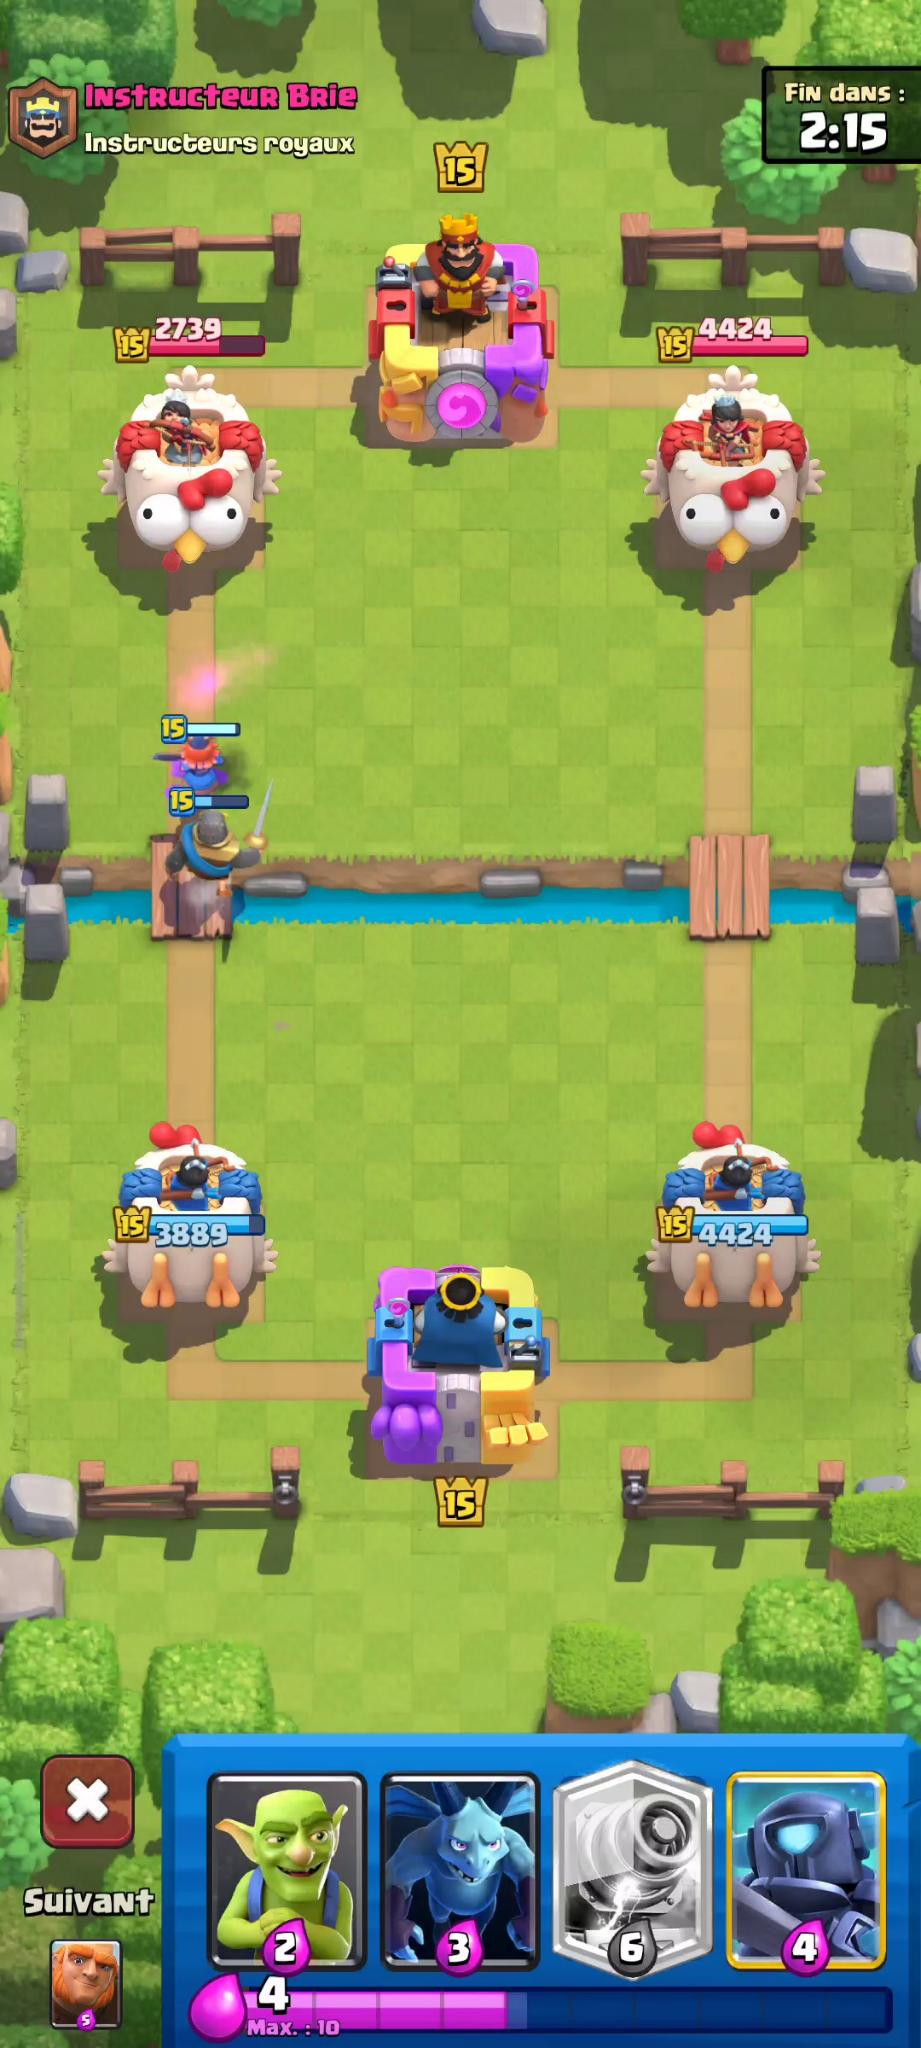chevalier: (150, 789, 273, 906)
valkyrie: (148, 713, 264, 805)
